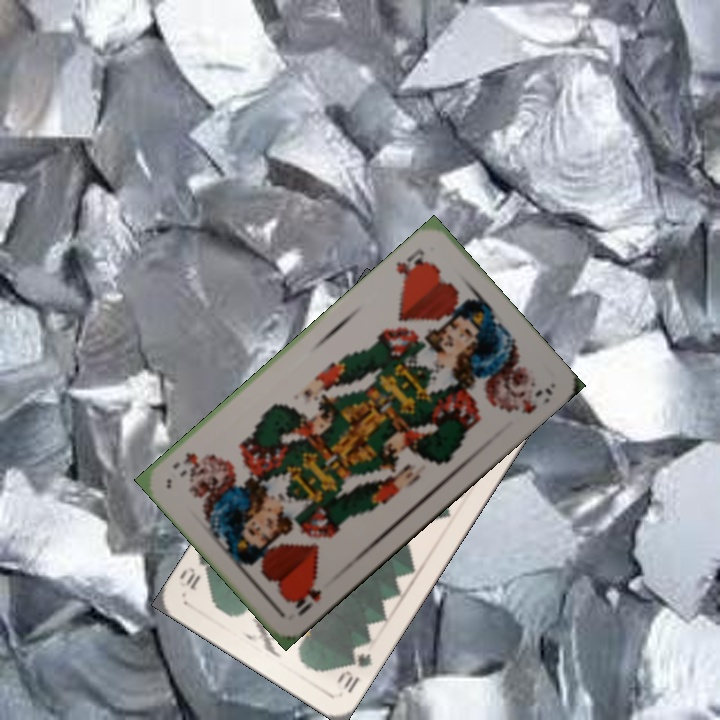G10: (332, 648, 375, 697)
HO: (392, 244, 431, 287), (288, 577, 324, 619)
